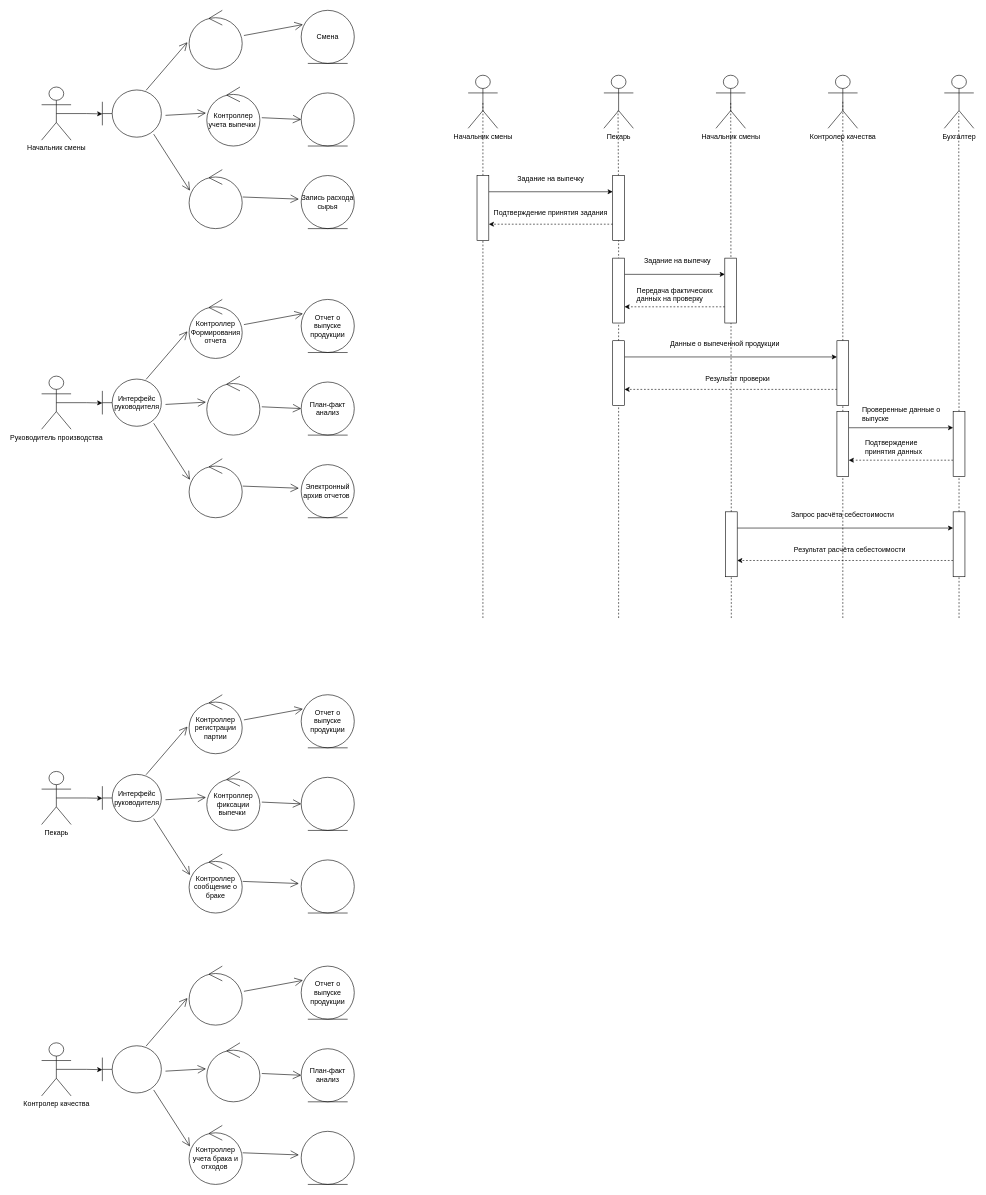
Image size: 986x1195. Some labels were removed from this diagram. Here are the shapes that lost their labels. From the top down, the centre of each, then its label:
At pixel 215 39: "Контроллер регистрации смены".
At pixel 131 113: "Интерфейс смены".
At pixel 327 119: "Партия продукции".
At pixel 215 199: "Контроллер учета сырья".
At pixel 233 405: "Контроллер план-факт анализа".
At pixel 215 488: "Контроллер архивации отчетов".
At pixel 327 803: "Запись выпечки".
At pixel 327 886: "Журнал брака".
At pixel 215 995: "Контроллер проверки сырья".
At pixel 131 1069: "Интерфейс Контролера качества".
At pixel 233 1072: "Контроллер подтверждения качества продукции".
At pixel 327 1157: "Журнал учета брака и отходов".
